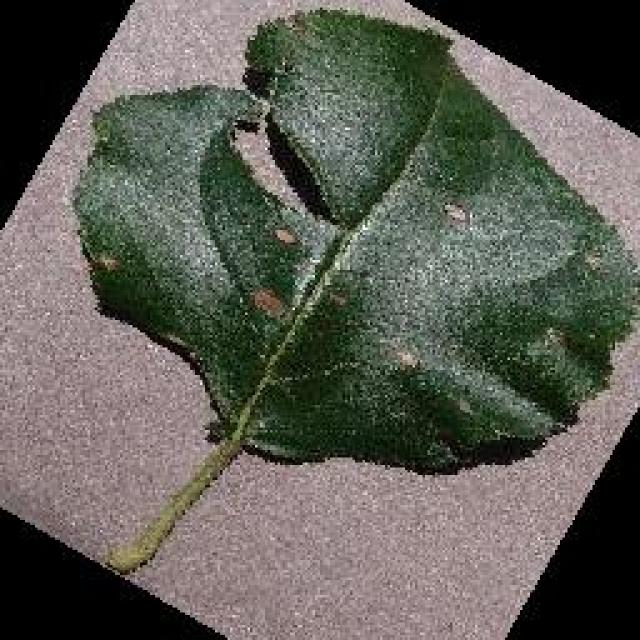apple black rot: (68, 5, 638, 477)
